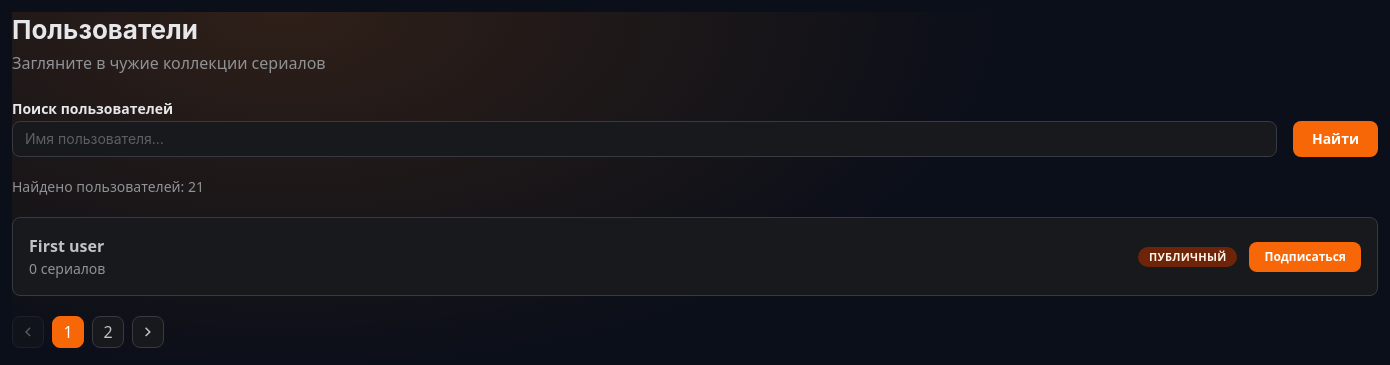
Test: loads another page from the API and resets the page when searching
Check: the text "First user" is shown, box [29, 234, 104, 259]
Click the button named "Страница 2": (108, 332) [92, 316, 124, 348]
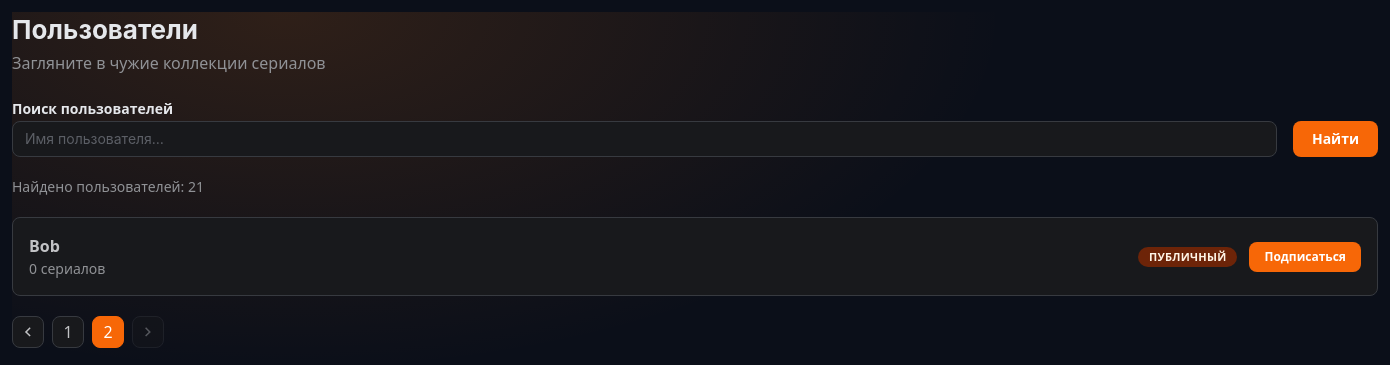
Check: the text "Bob" is shown, box [29, 234, 60, 259]
In the field labelled "Поиск пользователей": (644, 139) [12, 121, 1277, 157], type "Alice"
Then press Enter
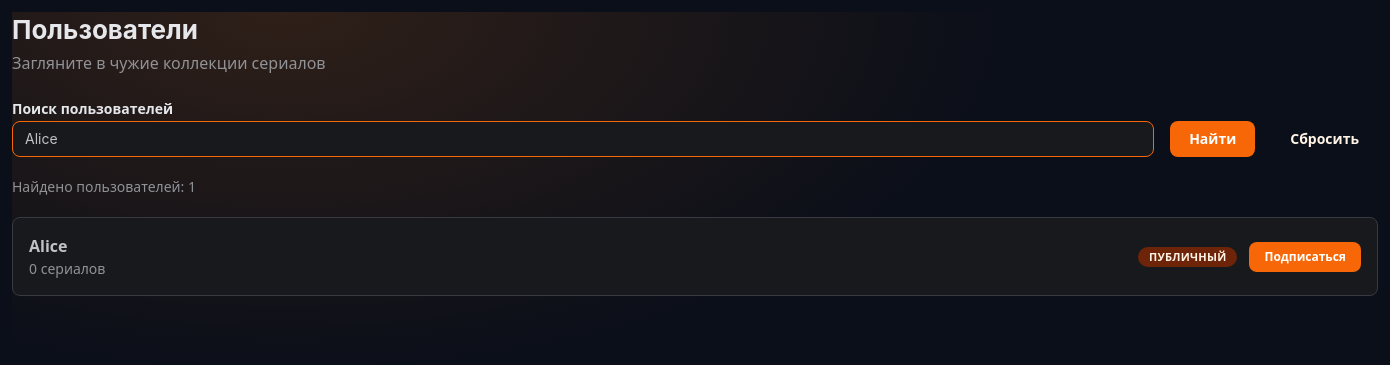
Check: the text "Alice" is shown, box [29, 234, 68, 259]
Click the button "Сбросить": (1325, 139) [1271, 121, 1378, 157]
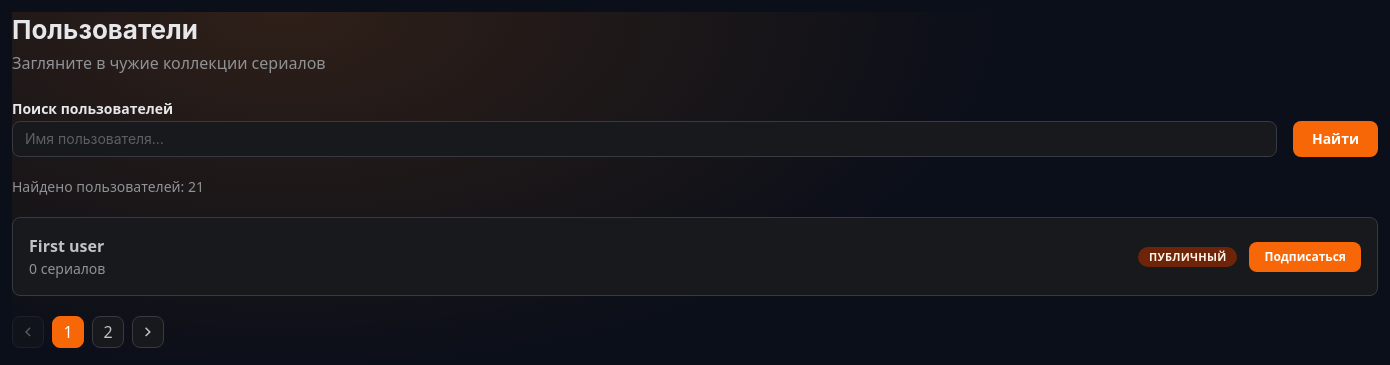
Check: the text "First user" is shown, box [29, 234, 104, 259]
